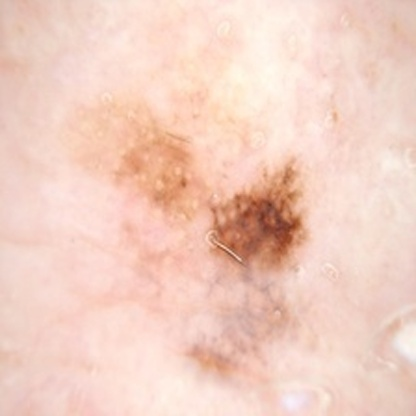malignant: (116, 123, 319, 275)
